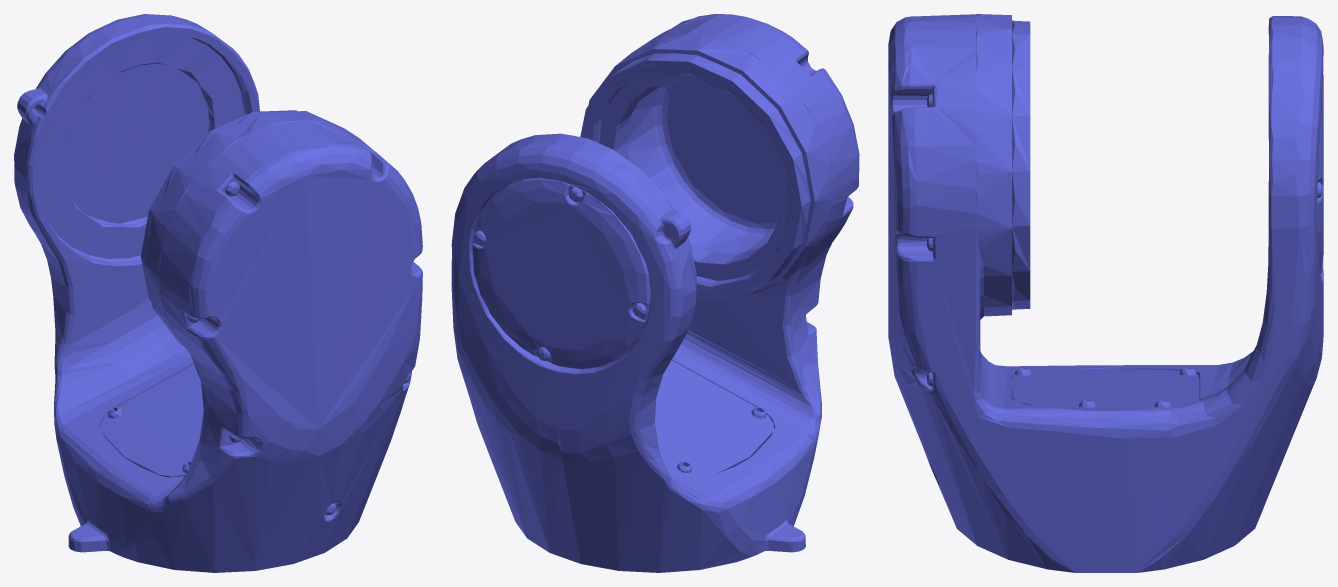
3 renders of one model, left to right at view 1: azimuth 30°, elevation 25°; view 2: azimuth 150°, elevation 25°; view 3: azimuth 270°, elevation 25°, orthographic. The views are drawn at different scales.
Parts seen in each view (by area): view 1: link_1_s; view 2: link_1_s; view 3: link_1_s.
Part boxes in pixels (x1,y1,x2,y2): link_1_s: [14, 14, 422, 572]; link_1_s: [451, 14, 859, 572]; link_1_s: [888, 14, 1323, 572].
Bounding box in the file's own units: 0.1505 × 0.1901 × 0.231.
